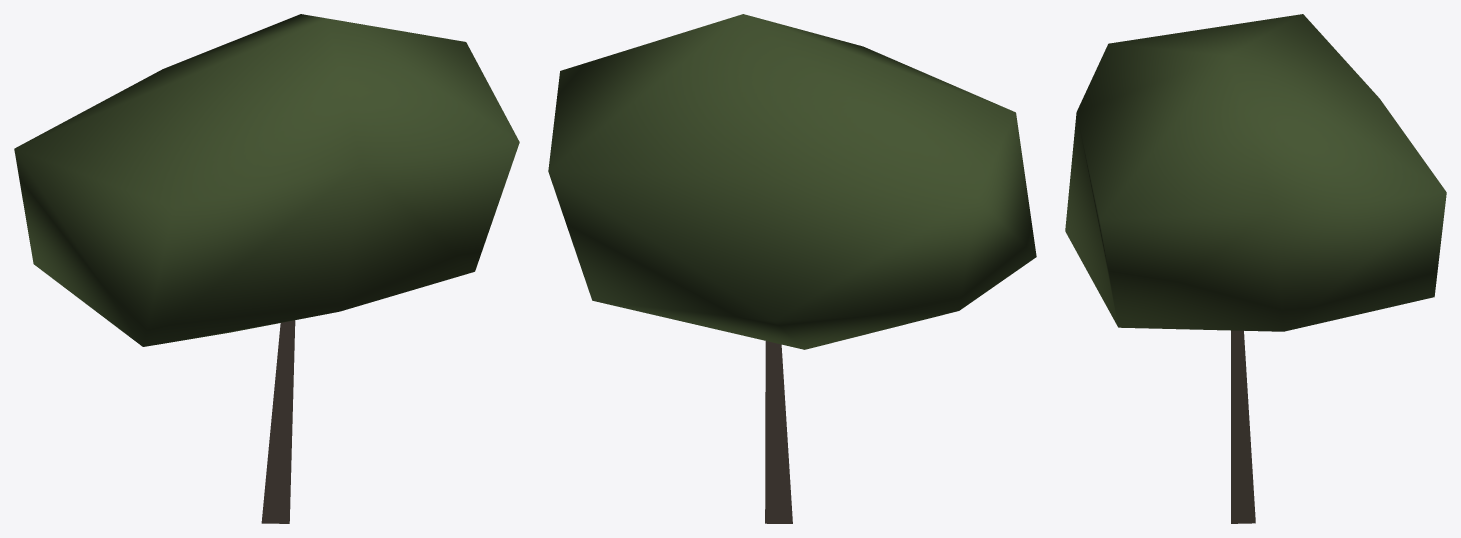
Rendered from dense_rounded_lod1.glb.
3 views of the same model, side by side, from view 1: azimuth 30°, elevation 25°; view 2: azimuth 150°, elevation 25°; view 3: azimuth 270°, elevation 25° (orthographic). The views are drawn at different scales.
Parts seen in each view (by area): view 1: dense_rounded_LOD1; view 2: dense_rounded_LOD1; view 3: dense_rounded_LOD1.
Part boxes in pixels (box(x1,y1,x2,y2)): dense_rounded_LOD1: box(14, 14, 519, 523); dense_rounded_LOD1: box(548, 14, 1036, 523); dense_rounded_LOD1: box(1065, 14, 1446, 523).
Bounding box in the file's own units: 8.28 × 9.01 × 6.42.
